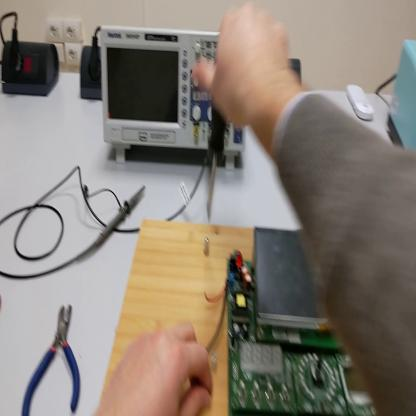hand: (196, 6, 293, 133), (97, 318, 215, 414)
low voltage board: (202, 226, 378, 416)
oscilloscope: (101, 27, 243, 173)
oscilloscope probe tip: (78, 184, 145, 265)
pliers: (22, 306, 81, 412)
screwdriver-: (209, 117, 226, 236)
socket: (2, 42, 60, 97), (81, 45, 101, 100)
welder station: (388, 42, 416, 151)
working area: (103, 222, 258, 416)
